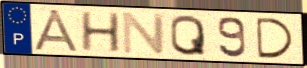9: (216, 16, 248, 58)
A: (31, 8, 84, 53)
D: (254, 16, 297, 60)
H: (80, 11, 123, 54)
N: (120, 11, 167, 55)
Q: (169, 13, 208, 57)
